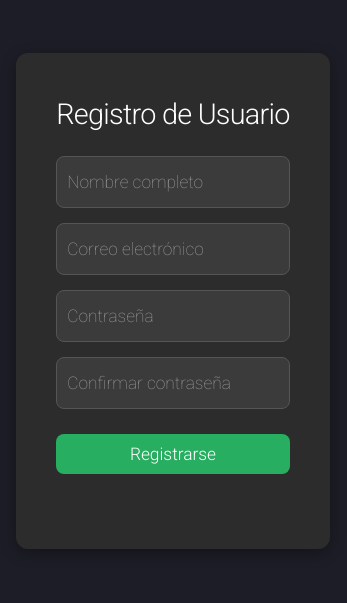
Test: 🧾 Formulario de Registro › ⚠️ muestra error si se intentan enviar campos vacíos
This screenshot has width=347, height=603.
Click the button "Registrarse". click: coordinates (173, 454)
box: [56, 434, 290, 474]
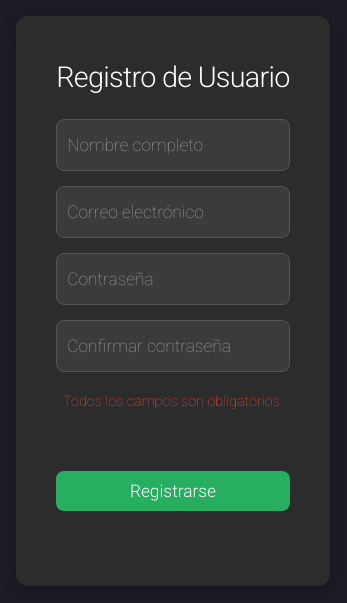
Now the text "Todos los campos son obligatorios." is shown, box [63, 393, 283, 410]
